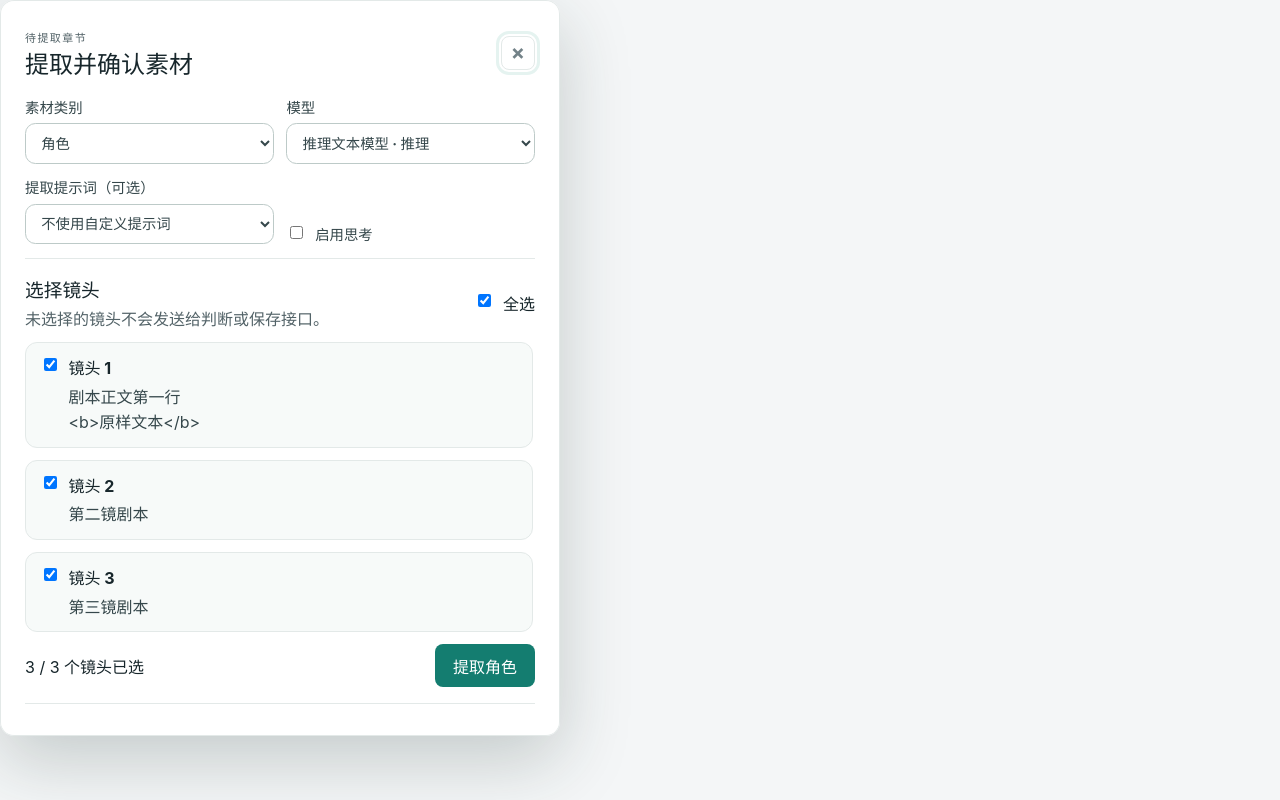
Scenario: StoryboardAssetExtractionDialog › shows the exact current frame text for extraction review and clears it after snapshot refresh without changing the plan payload
The width and height of the screenshot is (1280, 800).
Step 1. Click the checkbox named "选择镜头 3" → (50, 574), box [44,568,57,581]
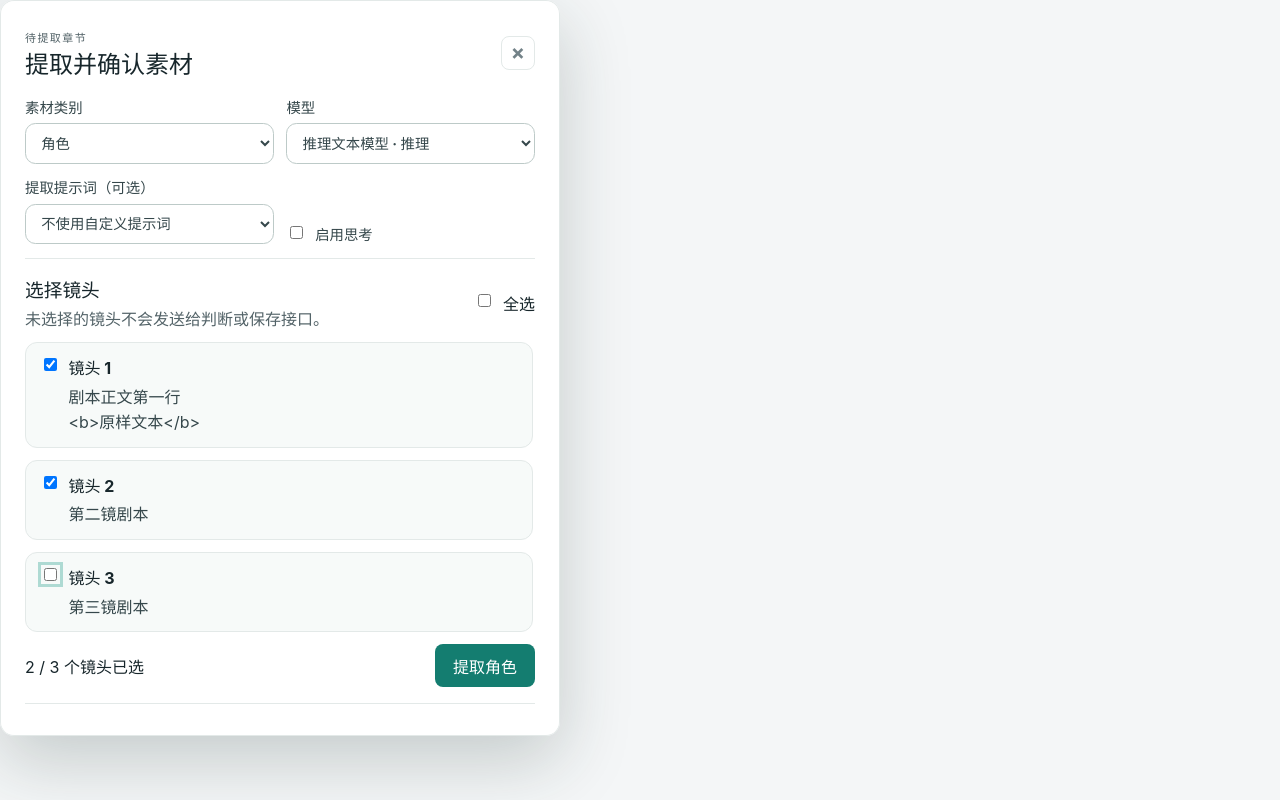
Step 2. Click the button "提取角色" → (485, 666), box [435,644,535,687]
(page scrolled)
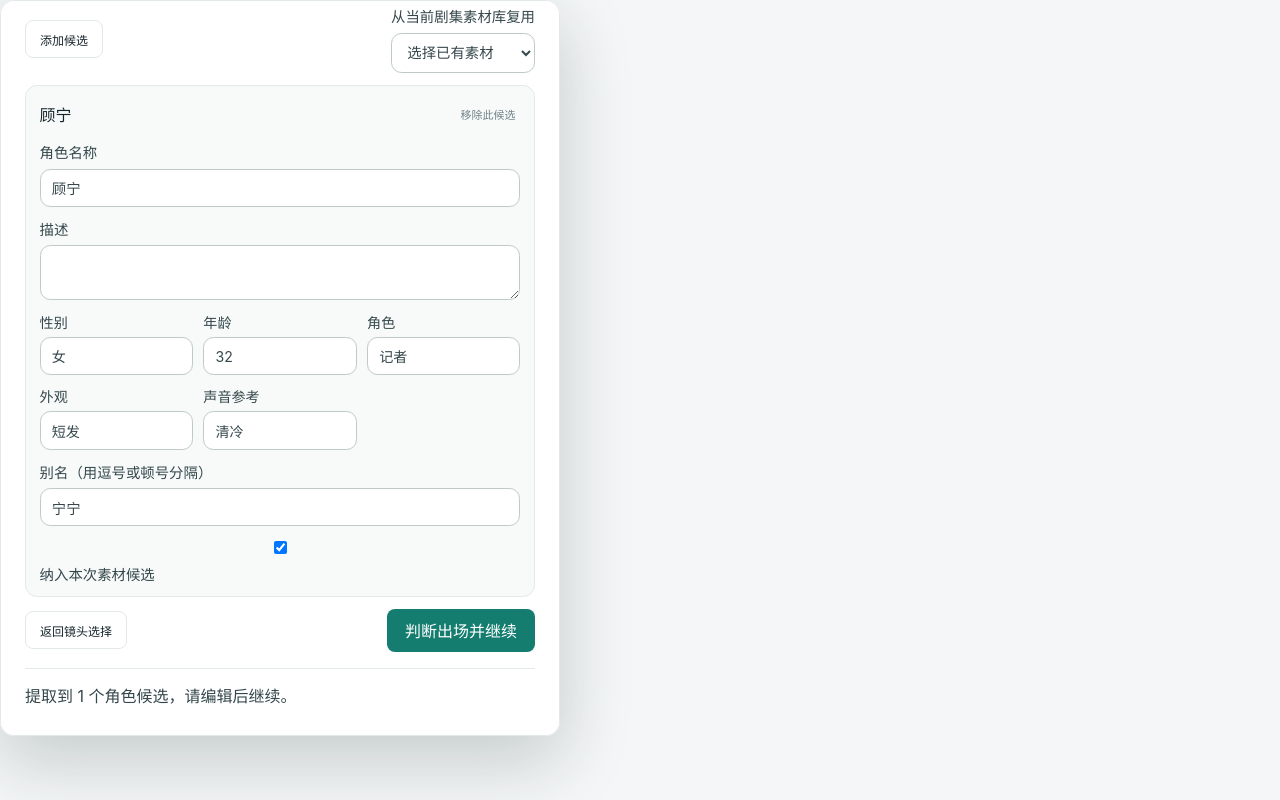
Step 3. Click the button "判断出场并继续" → (461, 630), box [387,609,535,652]
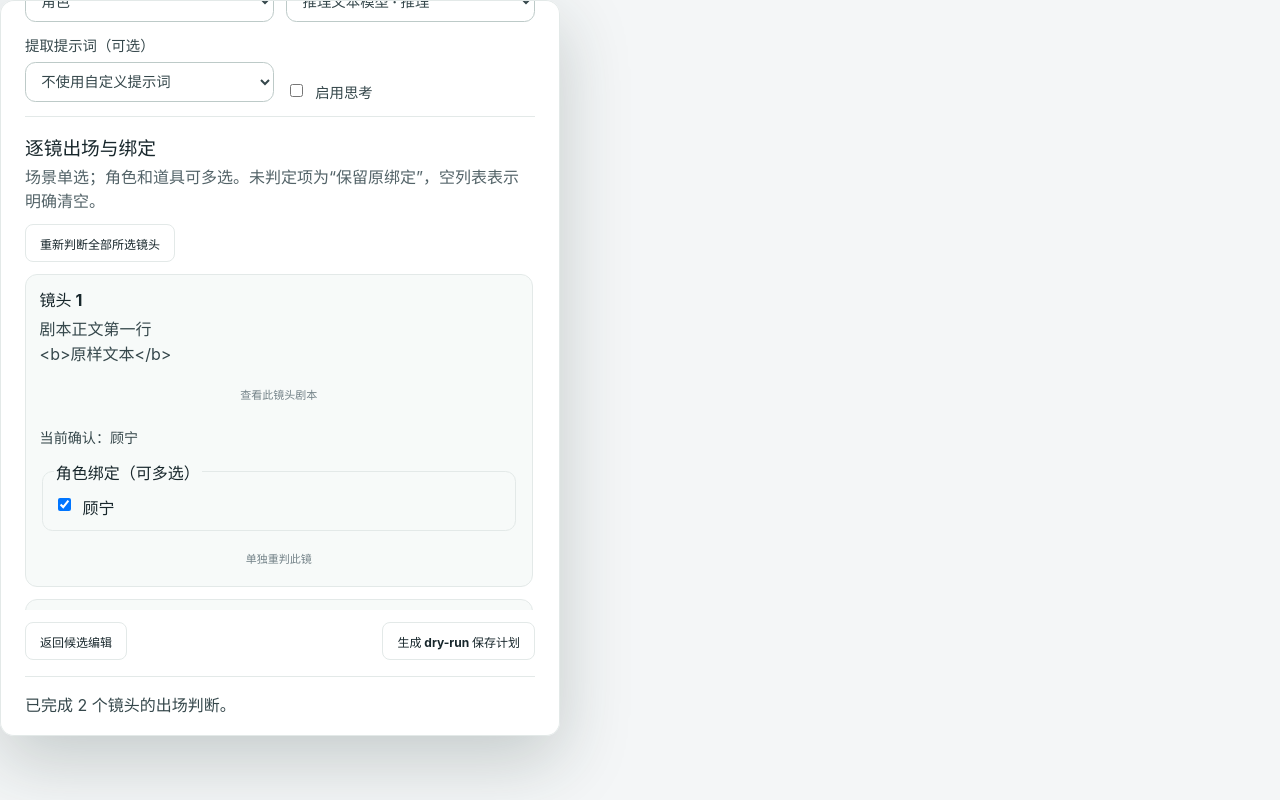
Check: the heading "逐镜出场与绑定" is shown, box [25,137,156,160]
Step 4. Click the button "查看此镜头剧本" → (279, 394), box [40,378,518,410]
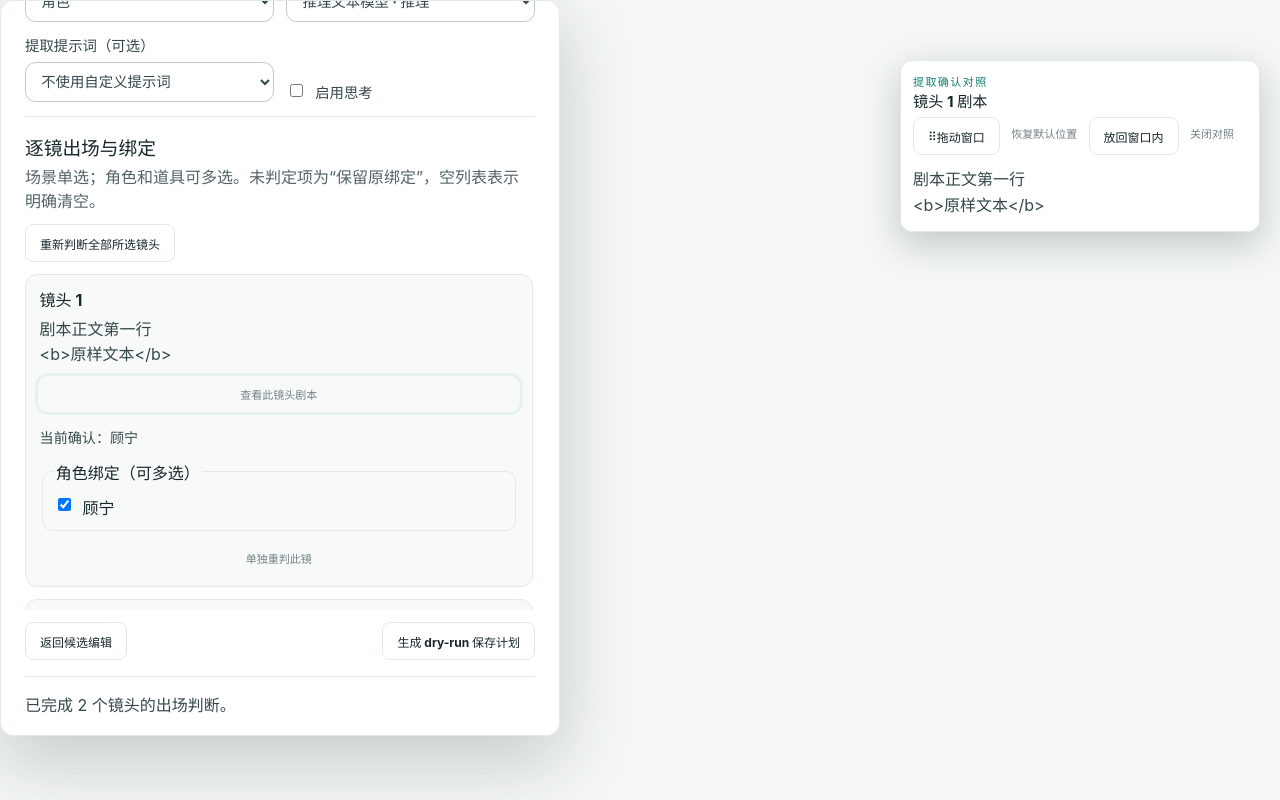
Check: the text named "镜头 1 的当前剧本" does not show "不得显示的打开原文", box [913,169,1045,215]
Step 5. Click the button "生成 dry-run 保存计划" → (459, 641), box [382,622,535,660]
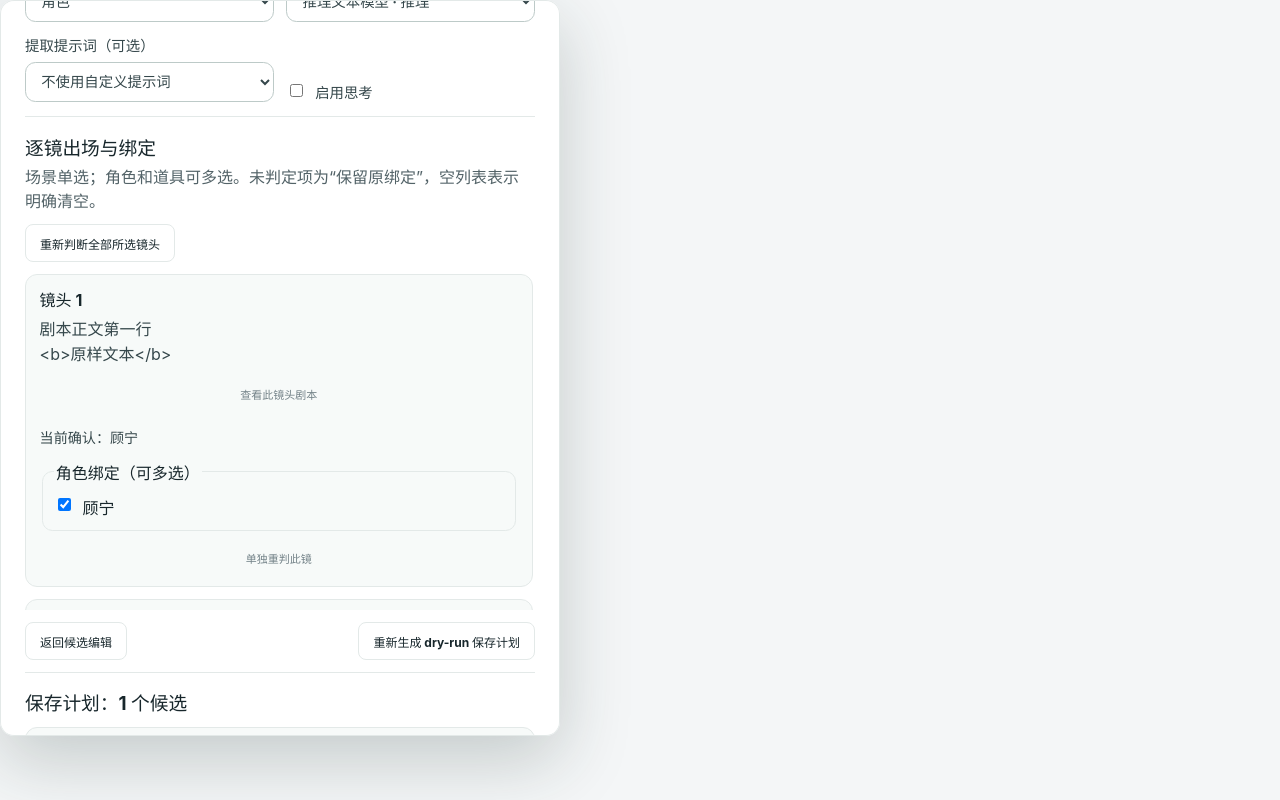
Check: the heading "保存计划：1 个候选" is shown, box [25,692,187,715]
